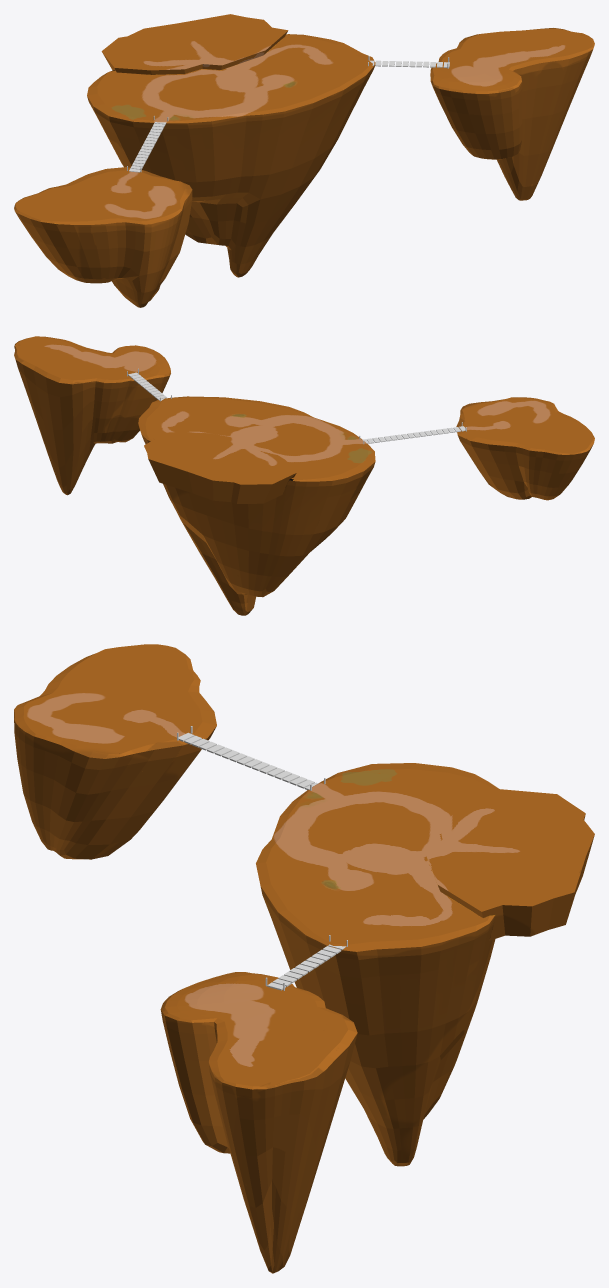
Rendered from Minature world.fbx.
3 views of the same model, one above another, from view 1: azimuth 30°, elevation 25°; view 2: azimuth 150°, elevation 25°; view 3: azimuth 270°, elevation 25° (orthographic). The views are drawn at different scales.
Visible parts, largest first — view 1: Plane.002, Plane.001, Plane.003, Cylinder.003, Cylinder.005; view 2: Plane.002, Plane.001, Plane.003, Cylinder.003; view 3: Plane.002, Plane.001, Plane.003, Cylinder.003, Cylinder.005.
Boxes of the visible parts, x1,y1,x2,y2 form: Plane.002: (87,14,375,277); Plane.001: (430,28,594,200); Plane.003: (14,167,192,307); Cylinder.003: (127,116,168,172); Cylinder.005: (368,56,449,68); Plane.002: (138,396,375,615); Plane.001: (14,336,170,495); Plane.003: (456,397,594,500); Cylinder.003: (359,422,466,444); Plane.002: (256,763,594,1166); Plane.001: (160,972,357,1273); Plane.003: (14,644,216,859); Cylinder.003: (177,726,325,790); Cylinder.005: (265,935,347,990).
Size of the model in its own units: 1636 by 529 by 903.
